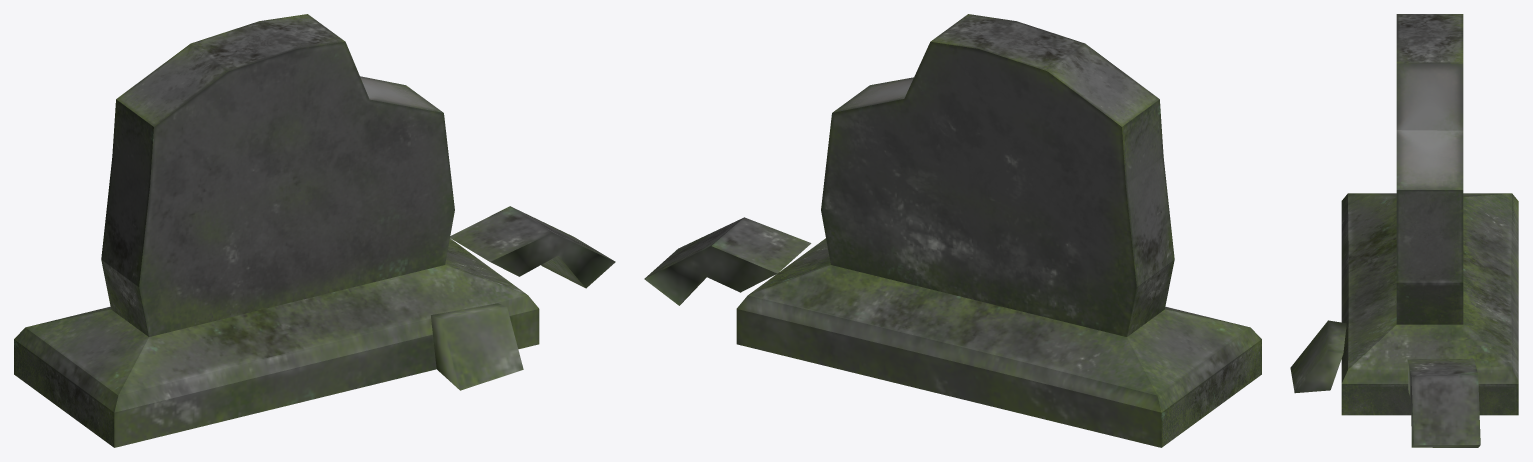
Rendered from tombs_moss_06.fbx.
The picture shows the model from 3 angles, left to right: view 1: azimuth 30°, elevation 25°; view 2: azimuth 150°, elevation 25°; view 3: azimuth 270°, elevation 25°; orthographic projection. The views are drawn at different scales.
Parts seen in each view (by area): view 1: tombs_moss_06; view 2: tombs_moss_06; view 3: tombs_moss_06.
Boxes of the visible parts, box(x1,y1,x2,y2) form: tombs_moss_06: box(14, 14, 615, 447); tombs_moss_06: box(644, 14, 1261, 447); tombs_moss_06: box(1290, 14, 1518, 447).
Bounding box in the file's own units: 0.2213 × 0.1263 × 0.0913.
Materials: 1 (1 with a texture image).
